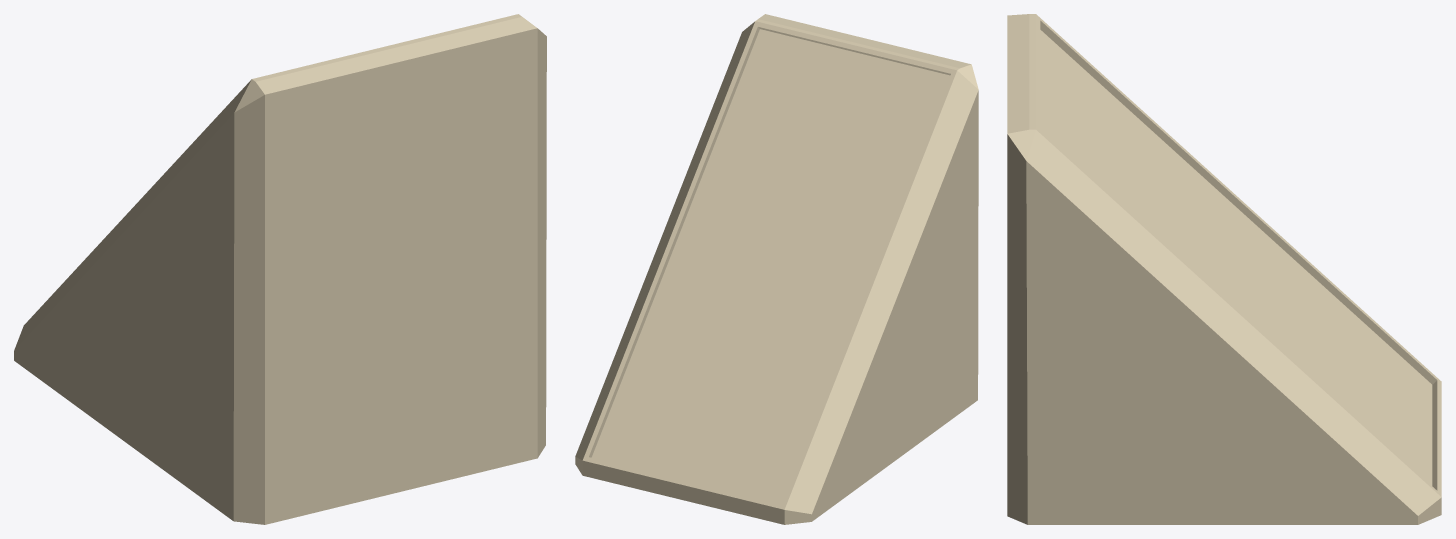
The model's file is OrderScreen.fbx.
3 views of the same model, side by side, from view 1: azimuth 30°, elevation 25°; view 2: azimuth 150°, elevation 25°; view 3: azimuth 270°, elevation 25° (orthographic). The views are drawn at different scales.
Visible parts, largest first — view 1: Cube; view 2: Cube; view 3: Cube.
Boxes of the visible parts, <box> form: Cube: <box>14,14,546,524</box>; Cube: <box>575,14,978,524</box>; Cube: <box>1007,14,1441,524</box>.
Bounding box in the file's own units: 133 × 176 × 180.
